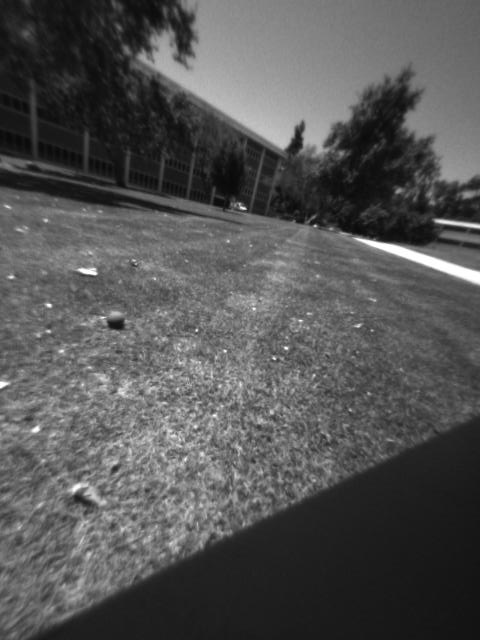dogtoy: (98, 301, 130, 337)
